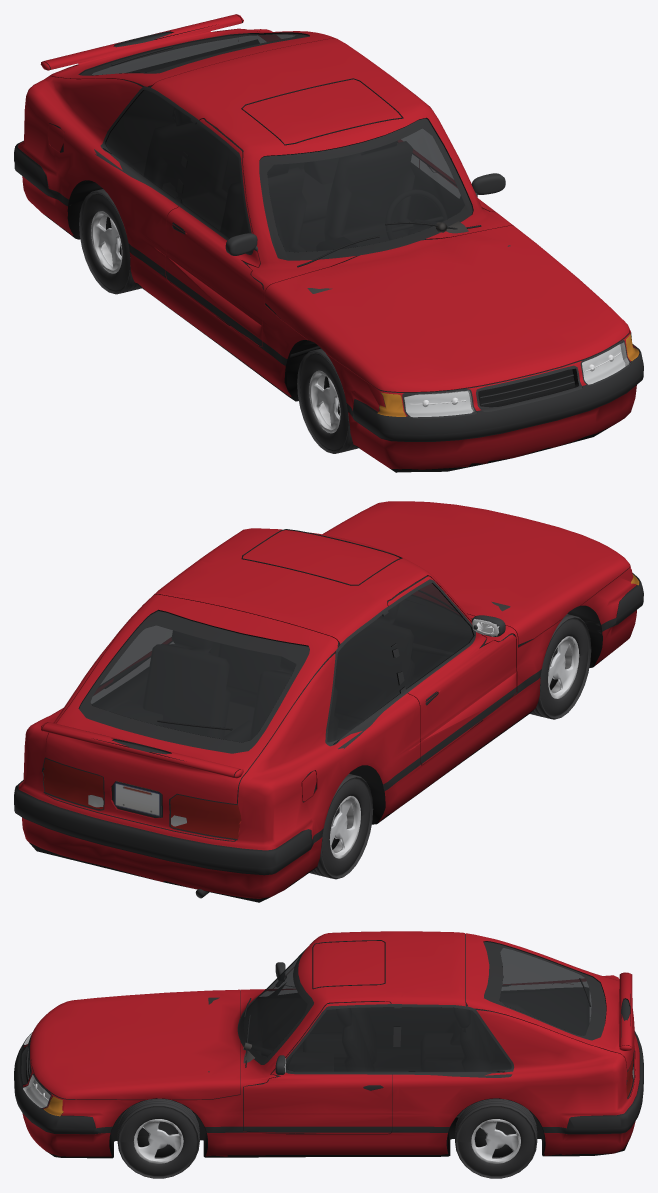
The model's file is car_saab900_v1.glb.
3 views of the same model, one above another, from view 1: azimuth 30°, elevation 25°; view 2: azimuth 150°, elevation 25°; view 3: azimuth 270°, elevation 25° (orthographic). The views are drawn at different scales.
Visible parts, largest first — view 1: body, wheel_FR, wheel_RR; view 2: body, wheel_RR, wheel_FR; view 3: body, wheel_FL, wheel_RL.
Boxes of the visible parts, x1,y1,x2,y2 form: body: (14, 14, 643, 472); wheel_FR: (297, 348, 358, 453); wheel_RR: (79, 189, 141, 294); body: (14, 501, 643, 902); wheel_RR: (309, 774, 373, 879); wheel_FR: (530, 614, 591, 719); body: (14, 931, 643, 1158); wheel_FL: (117, 1098, 199, 1178); wheel_RL: (455, 1098, 537, 1178).
Size of the model in its own units: 1.84 by 1.42 by 4.7.
Materials: 12 (1 with a texture image).
